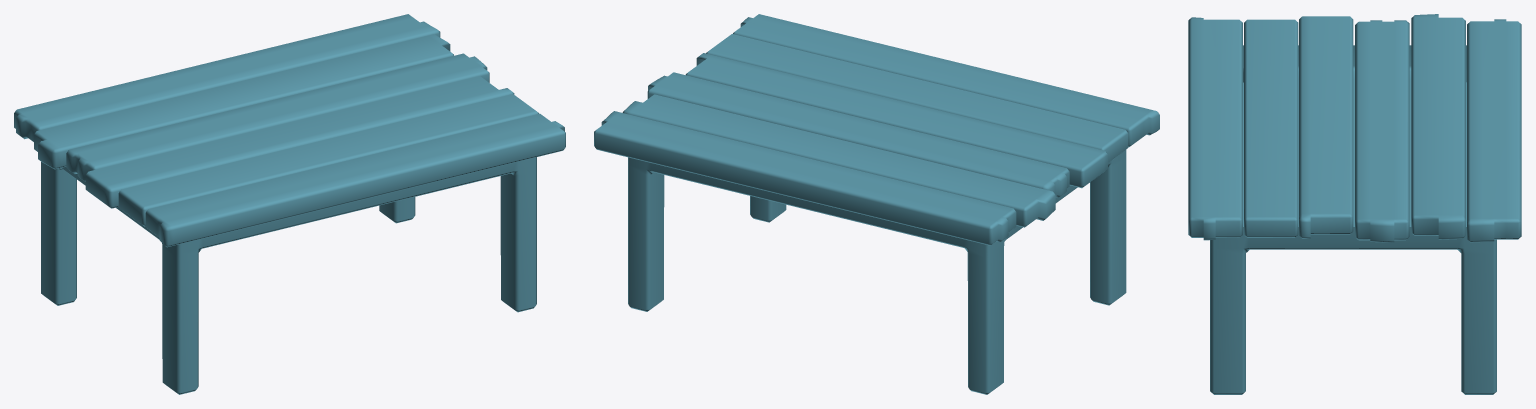
File: Mod_Table_LO_V1_JT.fbx
3 renders of one model, left to right at view 1: azimuth 30°, elevation 25°; view 2: azimuth 150°, elevation 25°; view 3: azimuth 270°, elevation 25°, orthographic. The views are drawn at different scales.
Visible parts, largest first — view 1: Table_LO; view 2: Table_LO; view 3: Table_LO.
Part boxes in pixels (x1,y1,x2,y2): Table_LO: (14, 14, 565, 394); Table_LO: (594, 14, 1159, 394); Table_LO: (1188, 14, 1521, 394).
Size of the model in its own units: 174 by 72.1 by 116.
